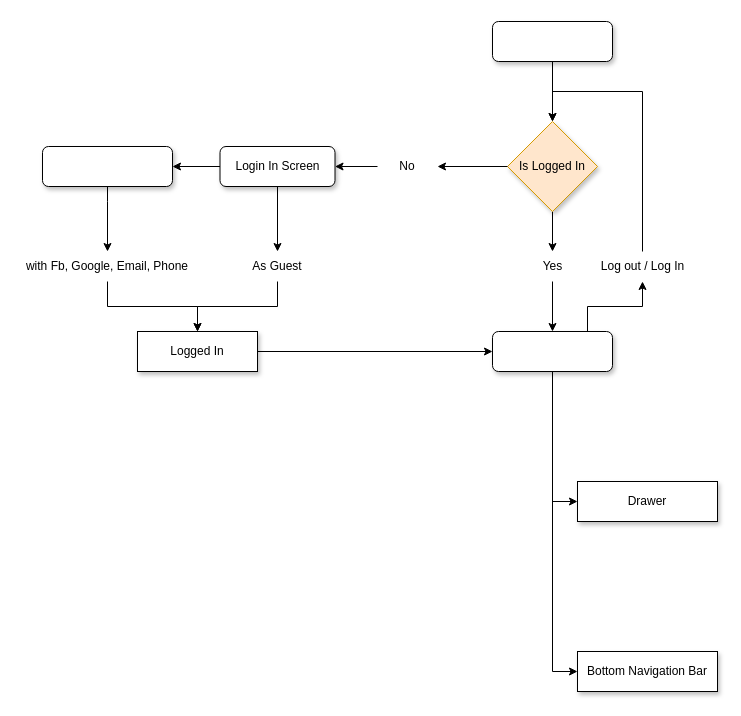
Image size: 741x716. Some labels were removed from this diagram. The shapes that lost their labels are listed below. From the top down, each one's centre as x and y in pixels, then its label:
At (x=553, y=42): "Splash Screen".
At (x=108, y=168): "Sign Up Screen".
At (x=553, y=352): "Home Screen".
